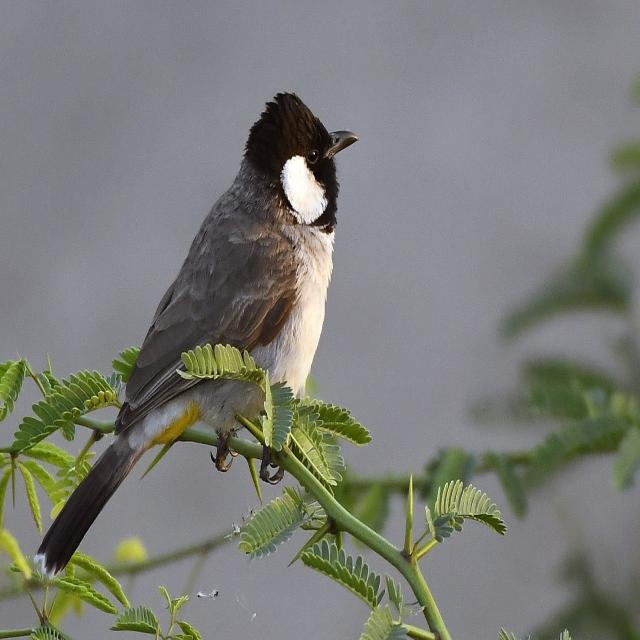bird: (38, 83, 362, 583)
